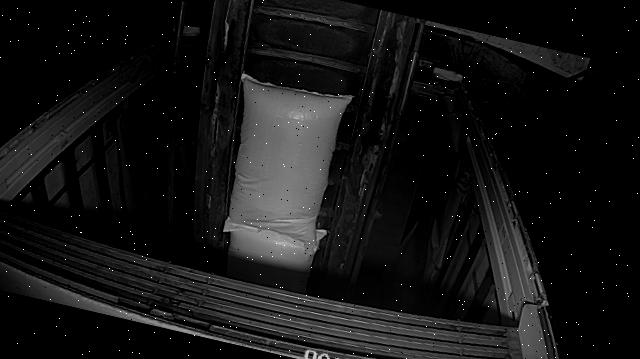bag: (206, 69, 354, 254), (220, 211, 326, 292)
